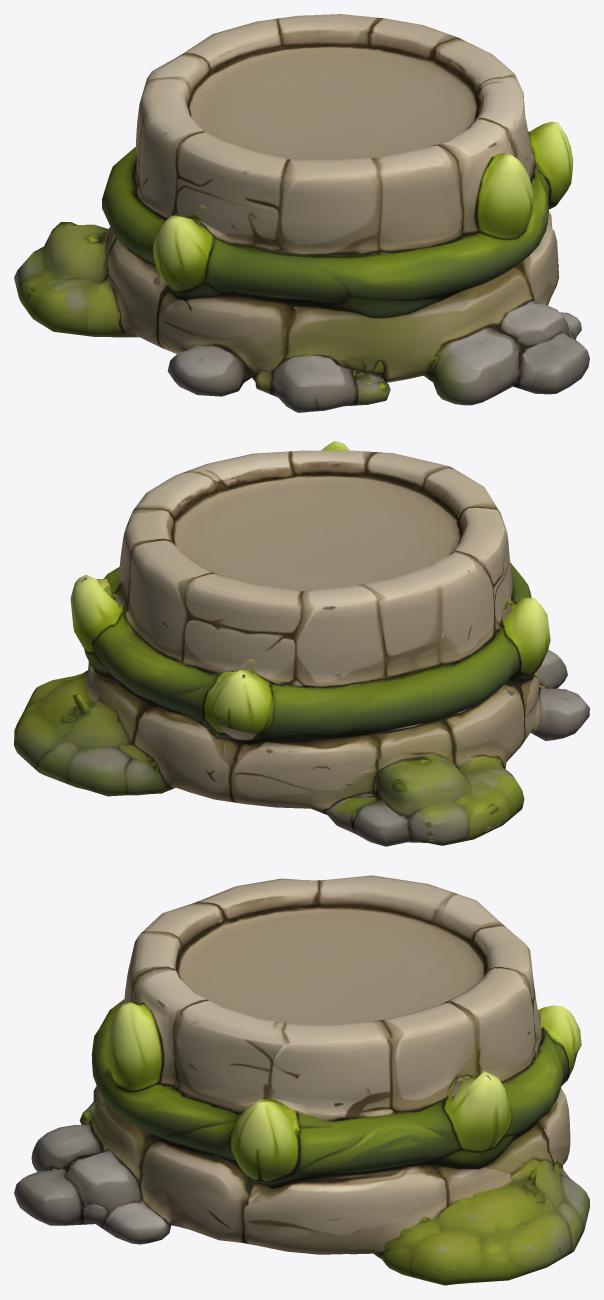
Rendered from nat_tw1-lv1-2300.fbx.
3 views of the same model, one above another, from view 1: azimuth 30°, elevation 25°; view 2: azimuth 150°, elevation 25°; view 3: azimuth 270°, elevation 25° (orthographic). The views are drawn at different scales.
Visible parts, largest first — view 1: tripo_node_8b0d9798; view 2: tripo_node_8b0d9798; view 3: tripo_node_8b0d9798.
Part boxes in pixels (x1,y1,x2,y2): tripo_node_8b0d9798: (14, 14, 589, 412); tripo_node_8b0d9798: (14, 441, 589, 846); tripo_node_8b0d9798: (14, 875, 589, 1285).
Bounding box in the file's own units: 0.9685 × 0.4099 × 0.9692.
